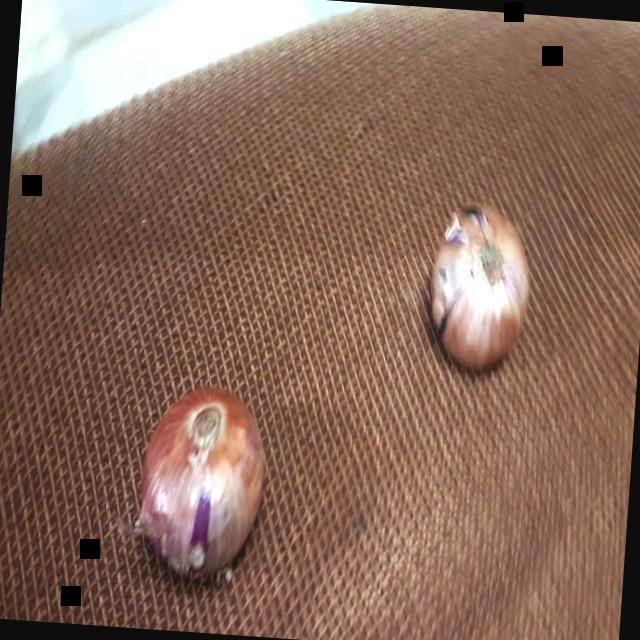onion: (115, 374, 292, 610), (398, 200, 558, 385)
